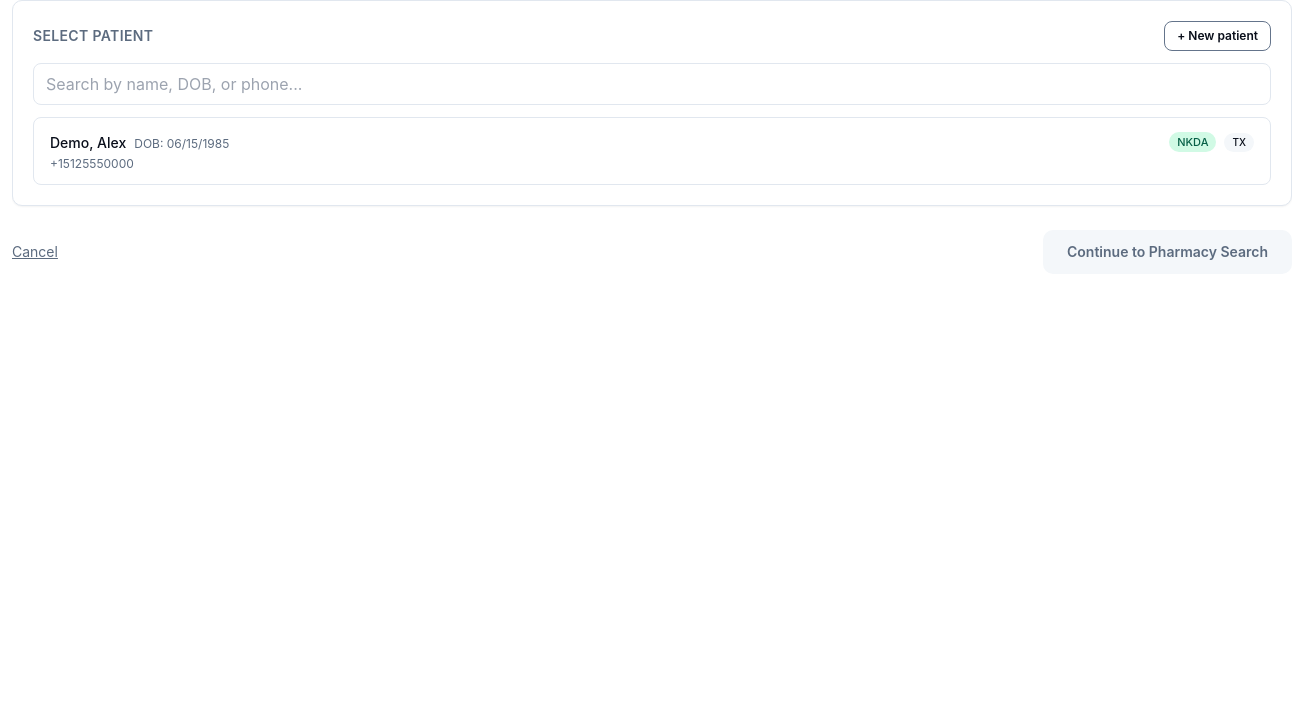
creating › with no name, the patient is listed by the end of their mobile
Click the button "+ New patient" at {"x": 1218, "y": 36}, box [1164,21,1271,51]
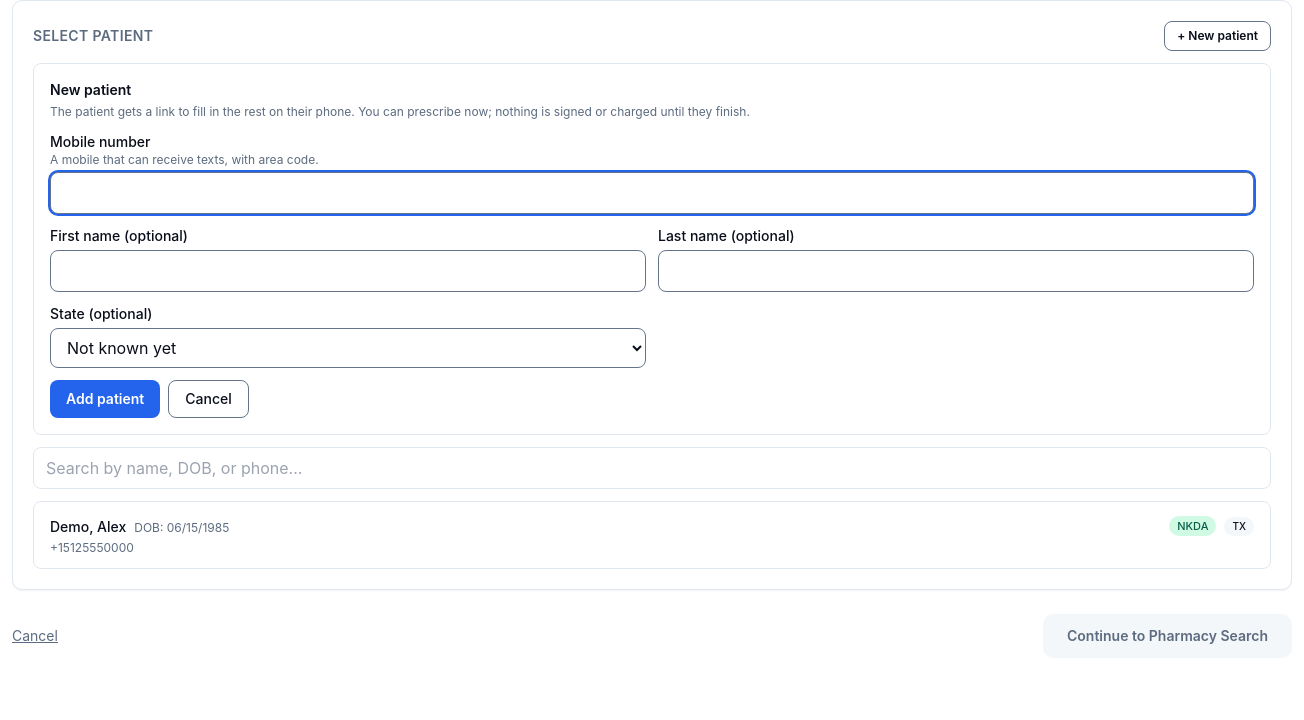
Type "5125550123" into the field labelled "Mobile number" at {"x": 652, "y": 193}, box [50,172,1254,214]
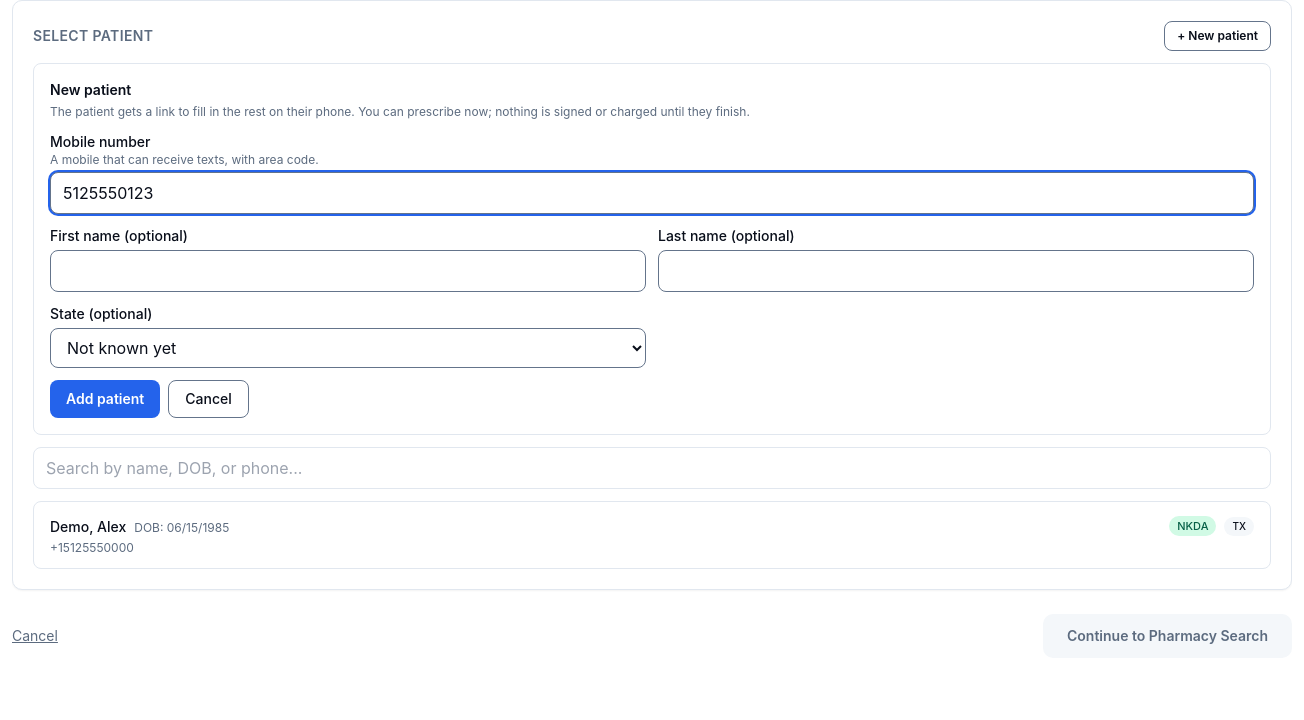
Click the button "Add patient" at {"x": 105, "y": 399}, box [50,380,160,418]
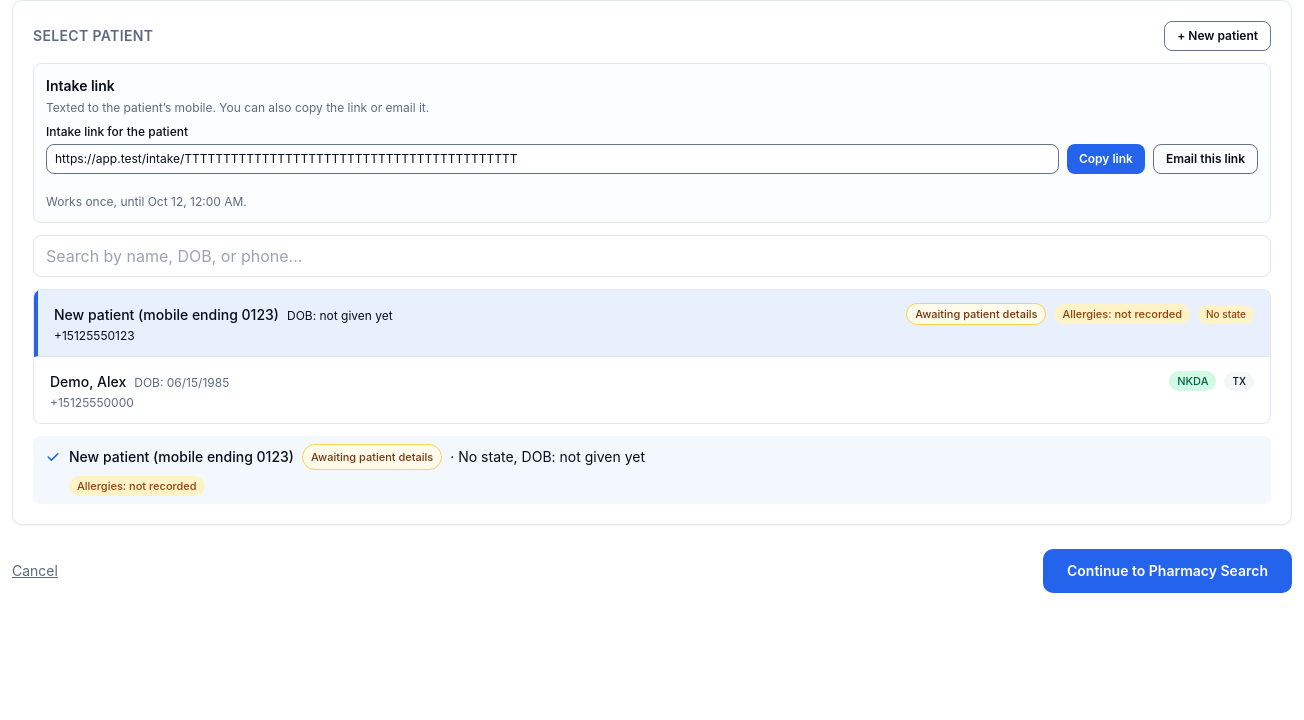
Expected: the button "New patient (mobile ending 0123)" is shown, [34,290,1270,357]
Expected: the text "Texted to the patient" is shown, [46,100,429,115]
